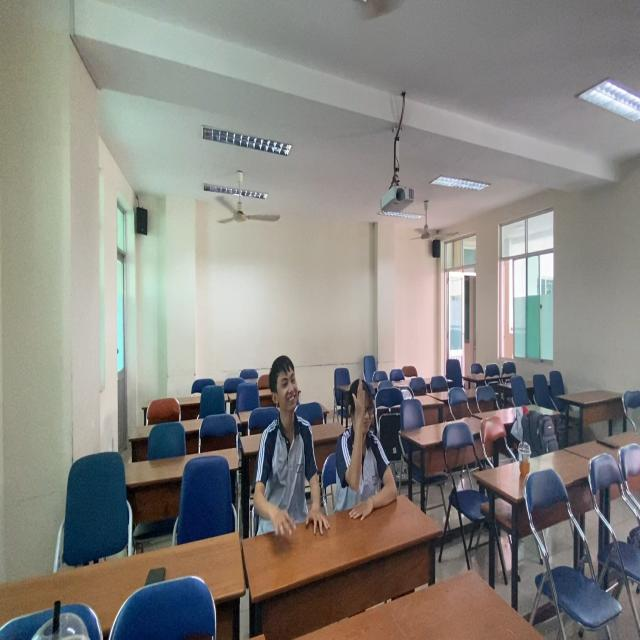raise_hand: (340, 381, 400, 531)
